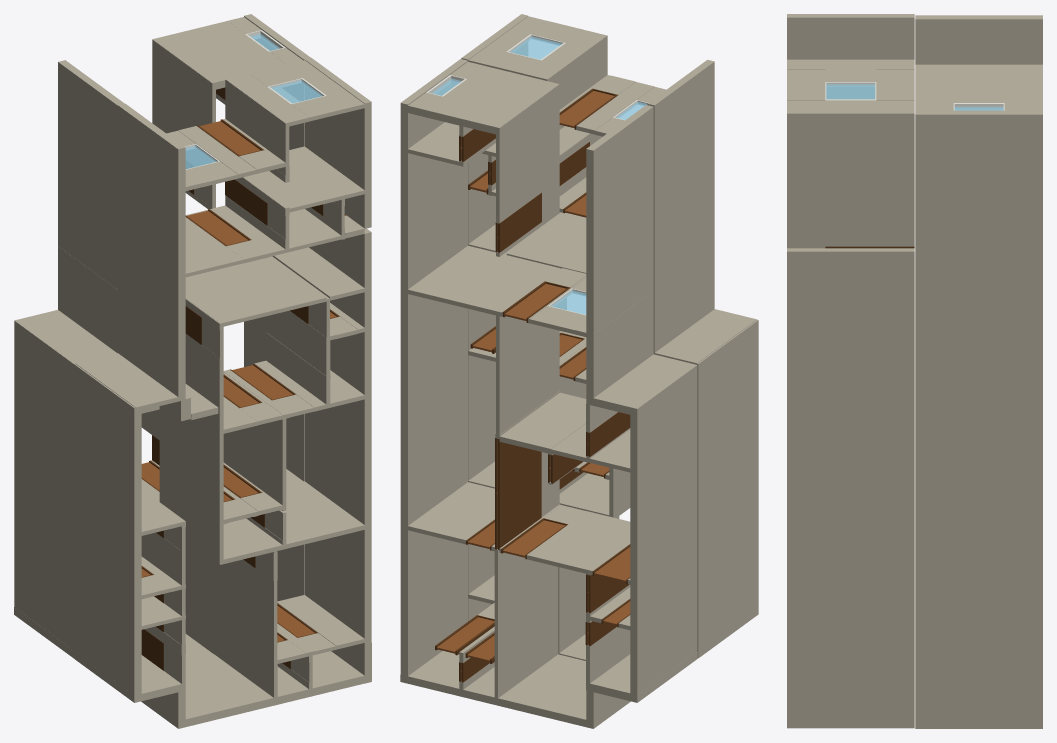
The model's file is 2floor.obj.
3 views of the same model, side by side, from view 1: azimuth 30°, elevation 25°; view 2: azimuth 150°, elevation 25°; view 3: azimuth 270°, elevation 25° (orthographic). The views are drawn at different scales.
Parts seen in each view (by area): view 1: tt_layout, ff_layout; view 2: ff_layout, tt_layout; view 3: tt_layout, ff_layout.
Boxes of the visible parts, bbox=[...] form: tt_layout: bbox=[74, 58, 371, 728]; ff_layout: bbox=[14, 14, 310, 660]; ff_layout: bbox=[400, 59, 697, 728]; tt_layout: bbox=[461, 14, 758, 660]; tt_layout: bbox=[787, 14, 914, 728]; ff_layout: bbox=[915, 15, 1042, 728].
Size of the model in its own units: 274 by 639 by 241.
